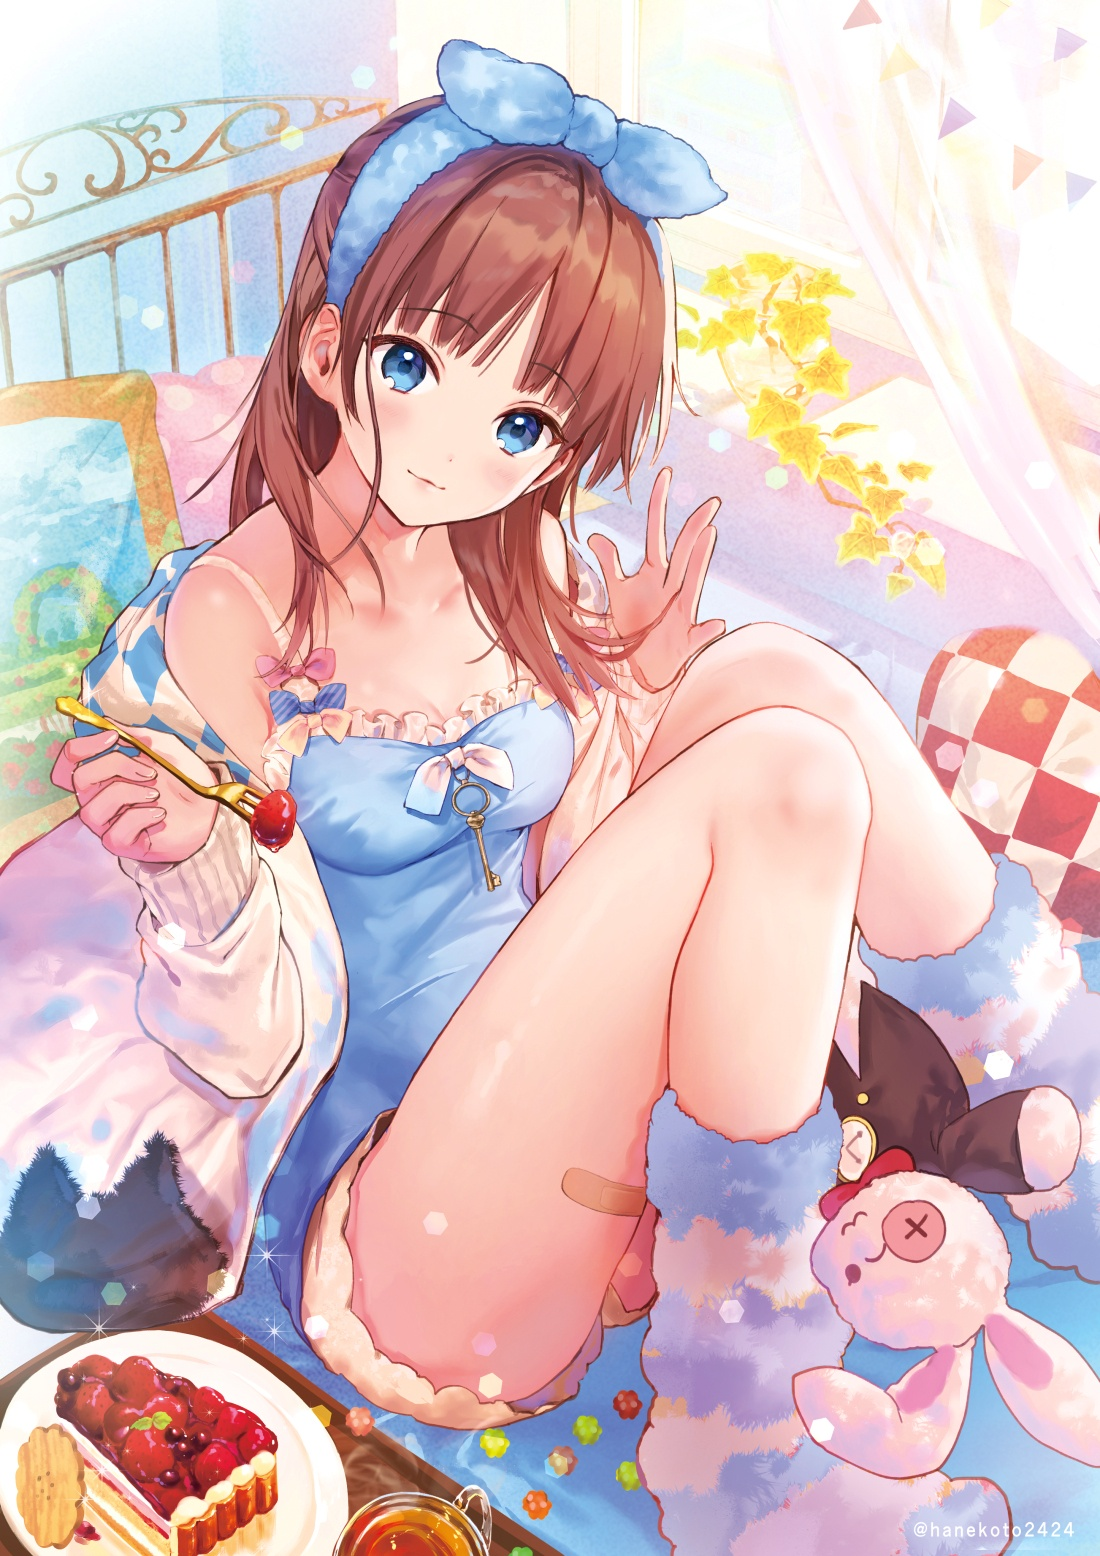纸片人正脸: (261, 85, 687, 548)
